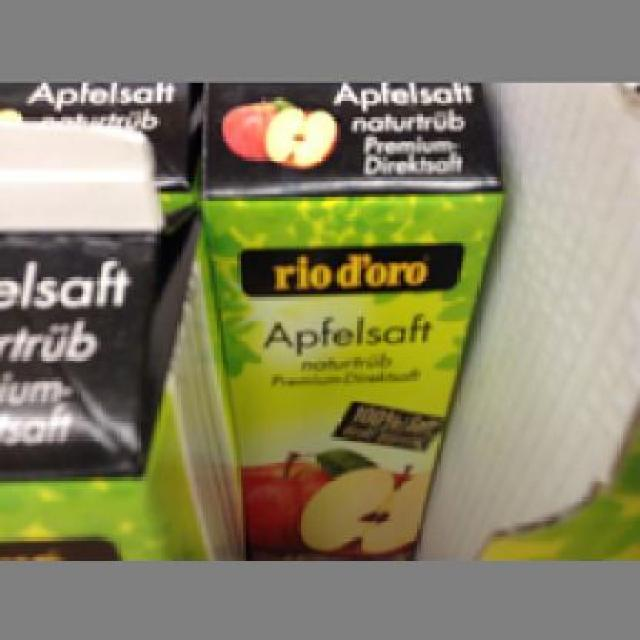Juice: (200, 79, 506, 555)
